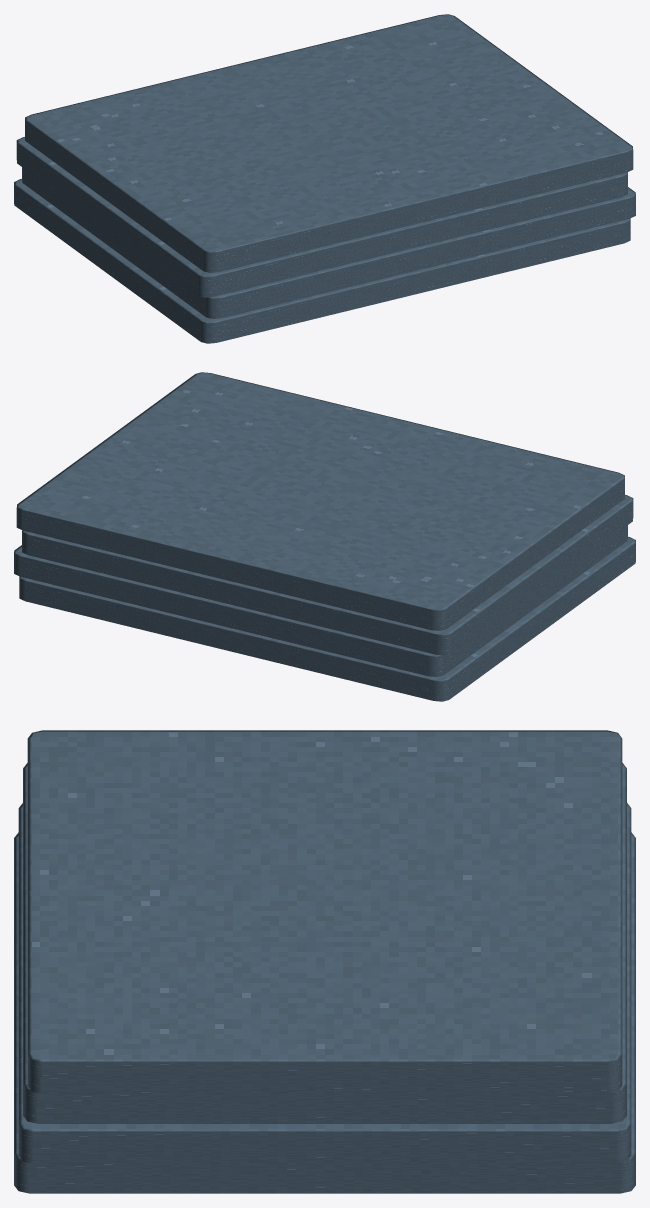
Rendered from uniform.glb.
The picture shows the model from 3 angles, top to bottom: view 1: azimuth 30°, elevation 25°; view 2: azimuth 150°, elevation 25°; view 3: azimuth 270°, elevation 25°; orthographic projection. The views are drawn at different scales.
Visible parts, largest first — view 1: fold (×4); view 2: fold (×4); view 3: fold (×4).
Part boxes in pixels (x1,y1,x2,y2): fold (×4): (14,14,635,343); fold (×4): (14,372,635,701); fold (×4): (14,730,635,1193).
Bounding box in the file's own units: 0.394 × 0.0752 × 0.3072.
1 material, 1 textured.
